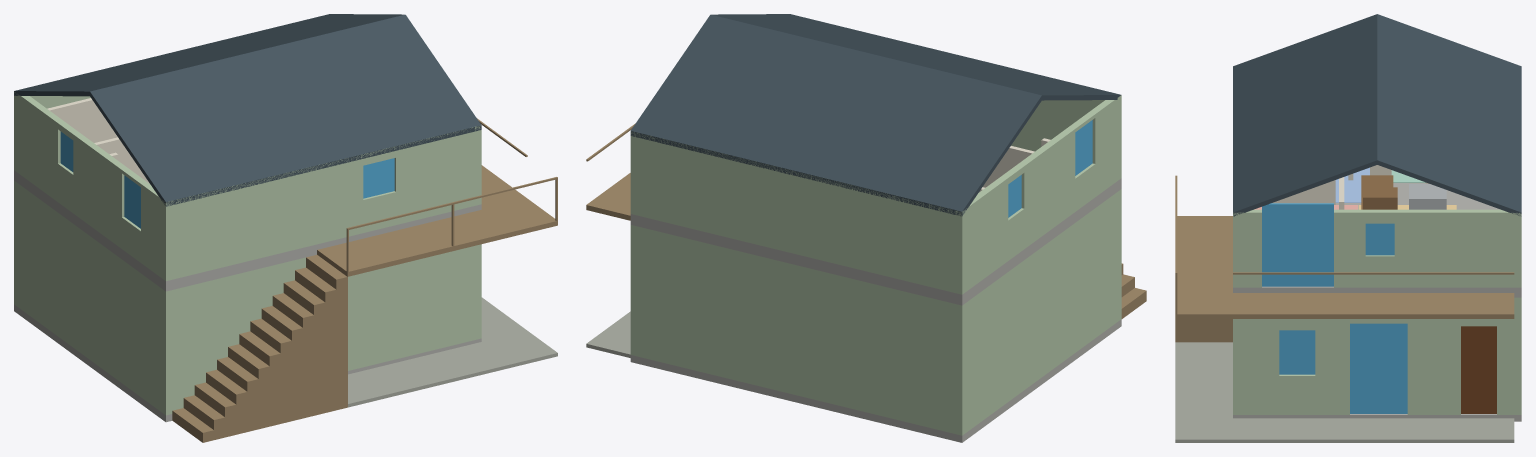
File: adu-option-e-sweethome.obj
The picture shows the model from 3 angles, left to right: view 1: azimuth 30°, elevation 25°; view 2: azimuth 150°, elevation 25°; view 3: azimuth 270°, elevation 25°; orthographic projection. The views are drawn at different scales.
Parts seen in each view (by area): view 1: color_bdd1b3, color_475761, color_a38c6b, color_adb0a6, color_b8b8b3, color_ebe6d6, color_59b3e0; view 2: color_bdd1b3, color_475761, color_b8b8b3, color_a38c6b, color_59b3e0, color_adb0a6, color_ebe6d6; view 3: color_475761, color_bdd1b3, color_a38c6b, color_59b3e0, color_adb0a6, color_b8b8b3, color_7a4d2b, color_ebe6d6, color_94734f, color_b8bdbf, color_b0ccf0.
Part boxes in pixels (x1,y1,x2,y2): color_bdd1b3: [14, 91, 481, 415]; color_475761: [14, 14, 481, 206]; color_a38c6b: [172, 118, 557, 442]; color_adb0a6: [348, 297, 557, 407]; color_b8b8b3: [14, 170, 481, 422]; color_ebe6d6: [47, 98, 149, 183]; color_59b3e0: [60, 131, 394, 228]; color_bdd1b3: [630, 95, 1121, 435]; color_475761: [630, 14, 1120, 216]; color_b8b8b3: [630, 178, 1121, 442]; color_a38c6b: [586, 123, 1146, 318]; color_59b3e0: [1008, 120, 1092, 217]; color_adb0a6: [586, 311, 630, 357]; color_ebe6d6: [979, 138, 1050, 192]; color_475761: [1233, 14, 1521, 216]; color_bdd1b3: [1233, 209, 1521, 414]; color_a38c6b: [1175, 175, 1514, 342]; color_59b3e0: [1262, 203, 1407, 413]; color_adb0a6: [1175, 342, 1514, 442]; color_b8b8b3: [1233, 183, 1521, 421]; color_7a4d2b: [1461, 326, 1496, 413]; color_ebe6d6: [1272, 165, 1429, 209]; color_94734f: [1361, 175, 1397, 209]; color_b8bdbf: [1409, 184, 1446, 209]; color_b0ccf0: [1335, 167, 1369, 202].
Bounding box in the file's own units: 838 × 610 × 732.
